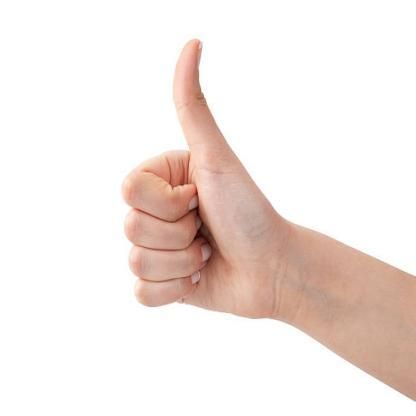thumb_up: (117, 34, 267, 316)
